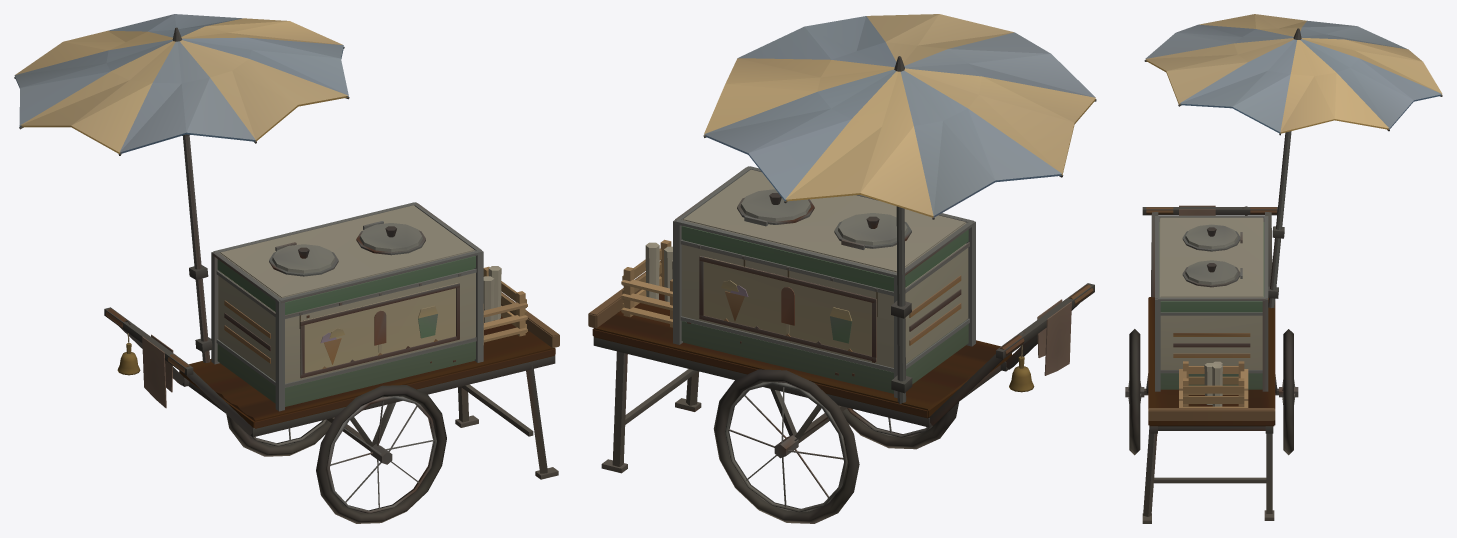
The model's file is icecream_cart_b.glb.
The picture shows the model from 3 angles, left to right: view 1: azimuth 30°, elevation 25°; view 2: azimuth 150°, elevation 25°; view 3: azimuth 270°, elevation 25°; orthographic projection. The views are drawn at different scales.
Parts seen in each view (by area): view 1: hb_metal, hb_thatch, hb_wood, hb_main; view 2: hb_metal, hb_thatch, hb_wood, hb_main; view 3: hb_metal, hb_thatch, hb_wood, hb_main.
Part boxes in pixels (x1,y1,x2,y2): hb_metal: (14, 27, 558, 513); hb_thatch: (14, 14, 348, 153); hb_wood: (105, 266, 559, 428); hb_main: (127, 266, 501, 523); hb_metal: (593, 56, 1096, 512); hb_thatch: (704, 14, 1095, 217); hb_wood: (588, 239, 1093, 418); hb_main: (645, 242, 1071, 523); hb_metal: (1125, 28, 1442, 523); hb_thatch: (1145, 14, 1442, 133); hb_wood: (1146, 207, 1276, 426); hb_main: (1129, 205, 1293, 455).
Size of the model in its own units: 2.25 by 2.16 by 1.65.
